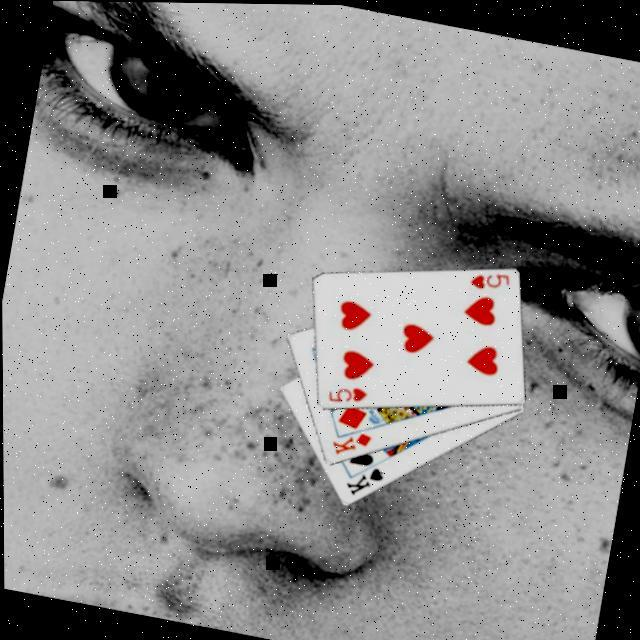5H: (462, 260, 512, 294), (320, 376, 369, 408)
KD: (324, 421, 373, 461)
KS: (338, 454, 386, 500)
